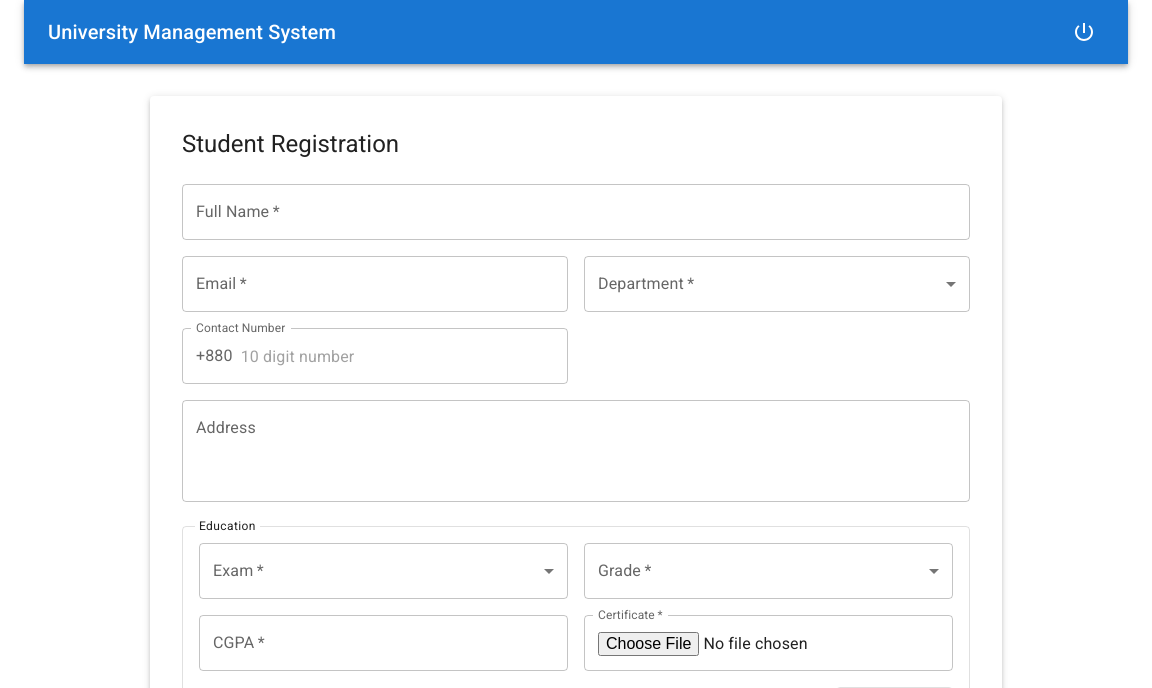
Test: StudentRegistrationPage › renders departments in the dropdown
Click the dropdown named "department" next to "Department" at (777, 284), box 584,256 -> 970,312
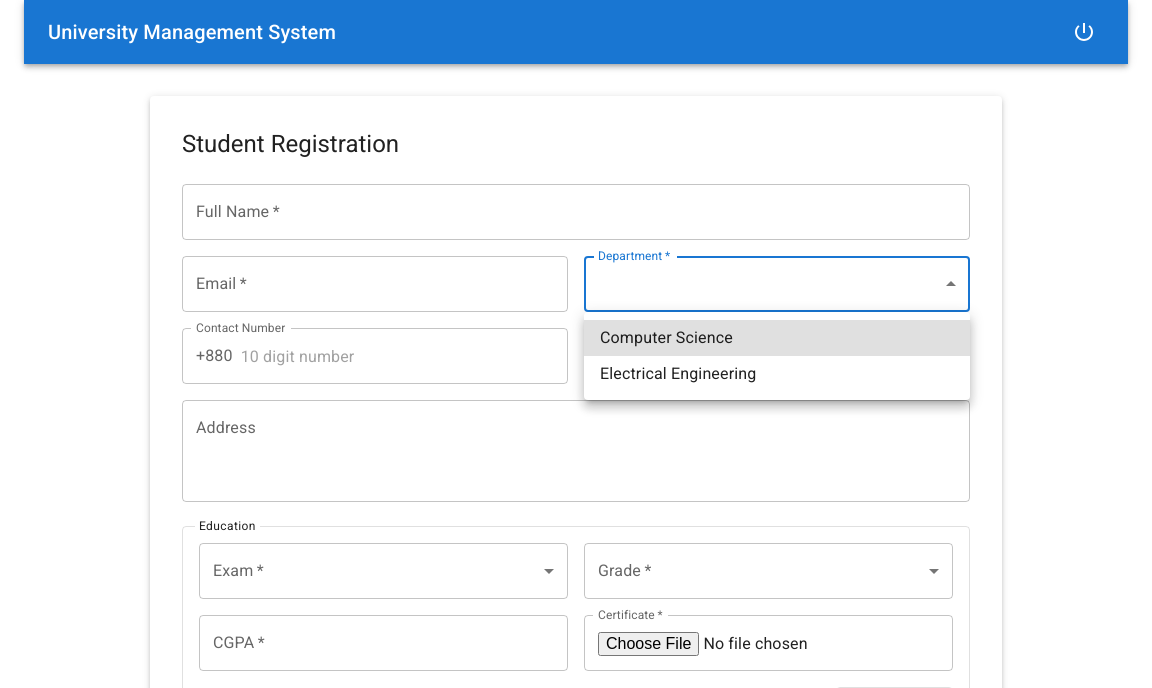
Expected: the option "Computer Science" is shown, 584,320 -> 970,356
Expected: the option "Electrical Engineering" is shown, 600,364 -> 756,383
